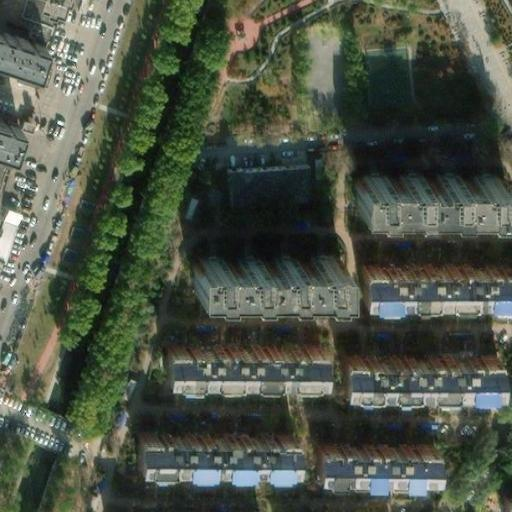building: (130, 429, 289, 464), (348, 173, 498, 210), (354, 264, 512, 298), (156, 342, 317, 375), (187, 256, 336, 291), (334, 354, 495, 386), (309, 441, 428, 474), (362, 42, 417, 112), (221, 166, 300, 204), (28, 0, 64, 24)
